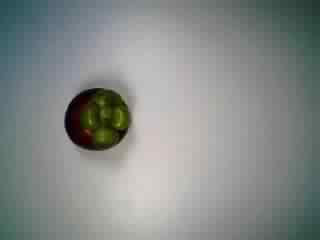mangosteen: (61, 82, 134, 156)
